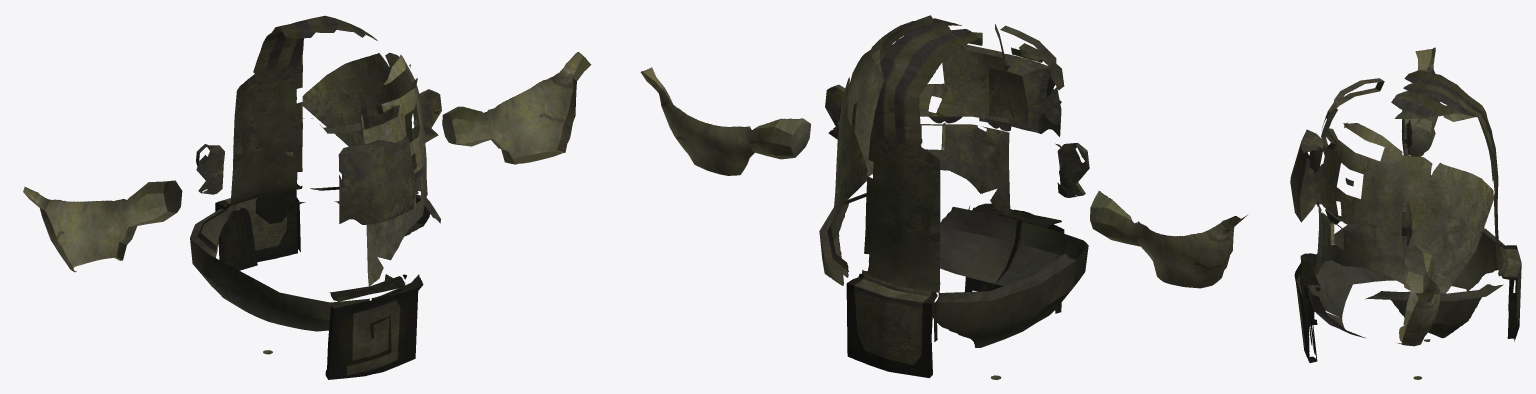
File: Tule.fbx
3 views of the same model, side by side, from view 1: azimuth 30°, elevation 25°; view 2: azimuth 150°, elevation 25°; view 3: azimuth 270°, elevation 25° (orthographic). The views are drawn at different scales.
Visible parts, largest first — view 1: TulesinMirror.001; view 2: TulesinMirror.001; view 3: TulesinMirror.001.
Boxes of the visible parts, x1,y1,x2,y2 form: TulesinMirror.001: [23, 15, 591, 379]; TulesinMirror.001: [640, 15, 1247, 379]; TulesinMirror.001: [1290, 47, 1521, 379].
Size of the model in its own units: 300 by 154 by 116.
